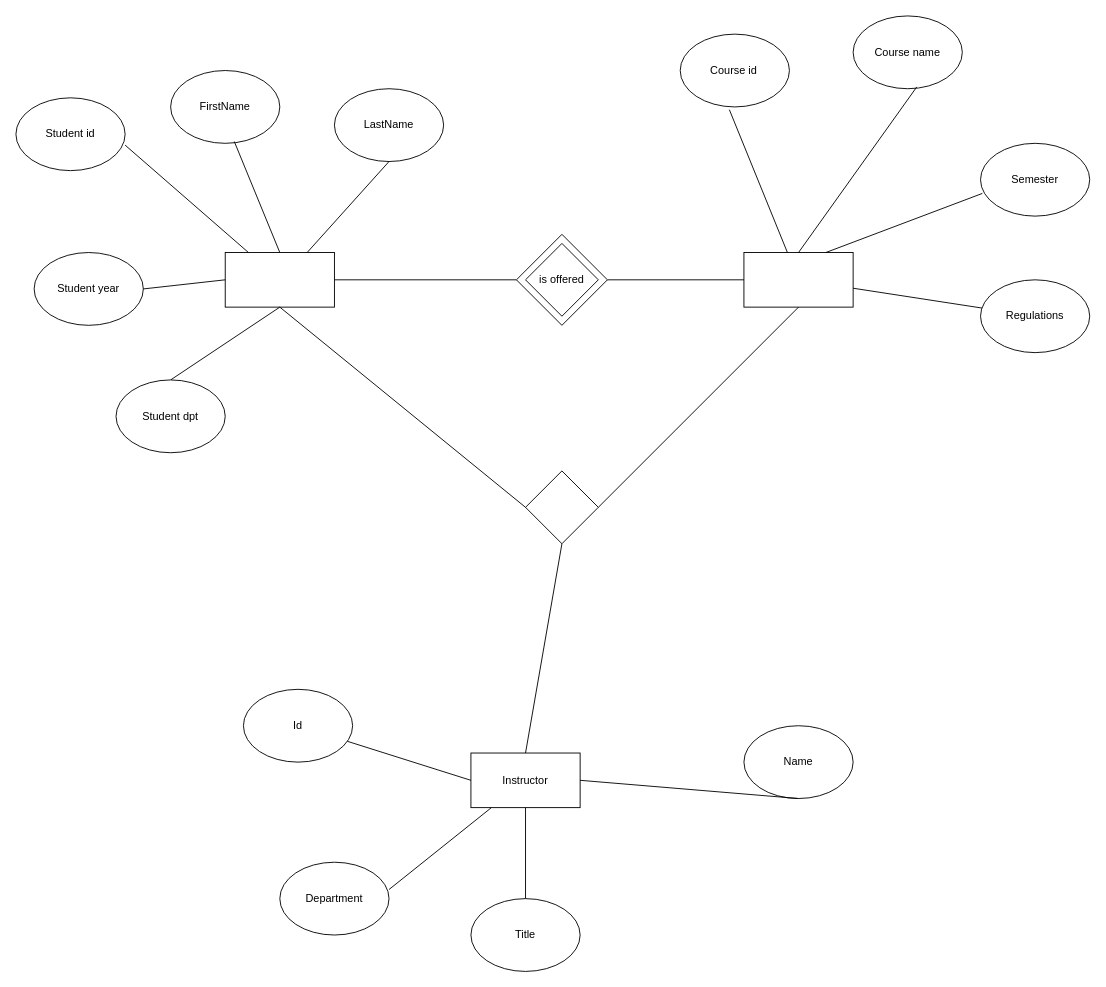
The diagram is 1106 pixels wide and 987 high, and some of its shapes have lost their labels. Each missing label, with the centre of its shape:
Courses: point 798,279
Student: point 279,279
Teaches: point 561,507
